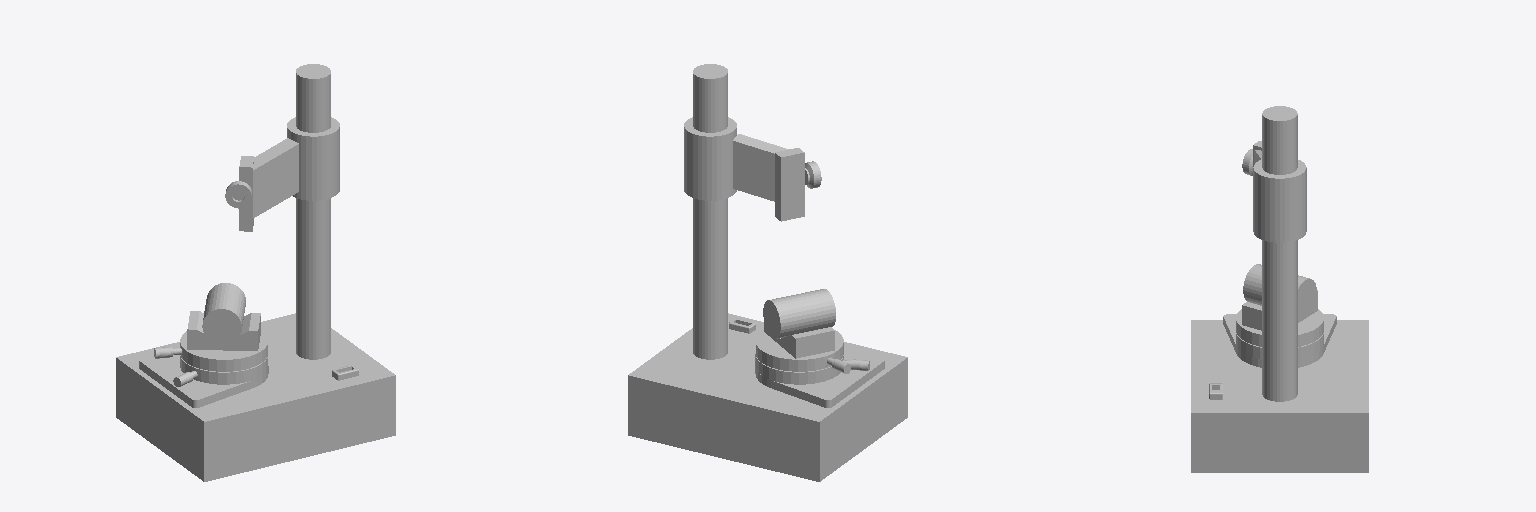
Rendered from base&slider0.obj.
The picture shows the model from 3 angles: view 1: azimuth 30°, elevation 25°; view 2: azimuth 150°, elevation 25°; view 3: azimuth 270°, elevation 25°; orthographic projection.
Parts seen in each view (by area): view 1: NONE_DC_Shell, 2_DC_Shell, 1_DC_Shell, _1_DC_Shell; view 2: NONE_DC_Shell, 2_DC_Shell, 1_DC_Shell, _1_DC_Shell; view 3: NONE_DC_Shell, 1_DC_Shell, 2_DC_Shell, _1_DC_Shell.
Boxes of the visible parts, x1=… form: NONE_DC_Shell: x1=116, y1=64, x2=395, y2=481; 2_DC_Shell: x1=139, y1=138, x2=358, y2=407; 1_DC_Shell: x1=287, y1=117, x2=339, y2=200; _1_DC_Shell: x1=187, y1=311, x2=260, y2=350; NONE_DC_Shell: x1=628, y1=64, x2=907, y2=481; 2_DC_Shell: x1=729, y1=134, x2=884, y2=407; 1_DC_Shell: x1=684, y1=117, x2=736, y2=200; _1_DC_Shell: x1=764, y1=323, x2=834, y2=358; NONE_DC_Shell: x1=1191, y1=106, x2=1368, y2=472; 1_DC_Shell: x1=1253, y1=159, x2=1306, y2=242; 2_DC_Shell: x1=1209, y1=150, x2=1336, y2=399; _1_DC_Shell: x1=1242, y1=290, x2=1317, y2=330.
Size of the model in its own units: 250 by 425 by 200.